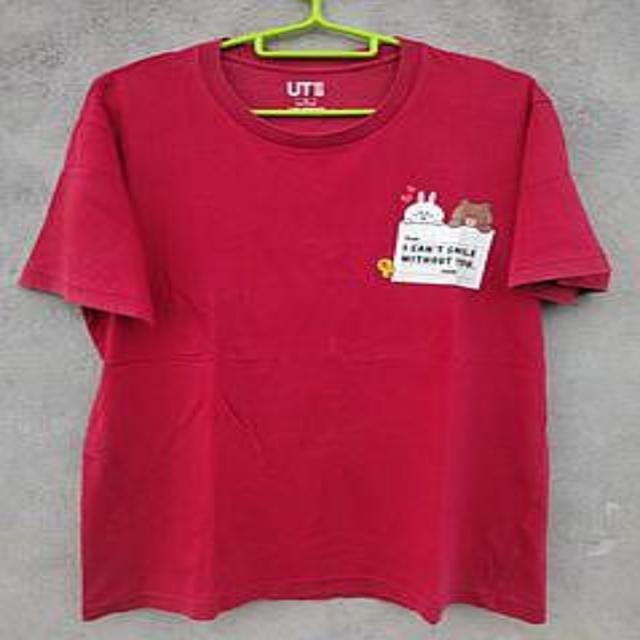T_SHIRT: (12, 28, 626, 629)
